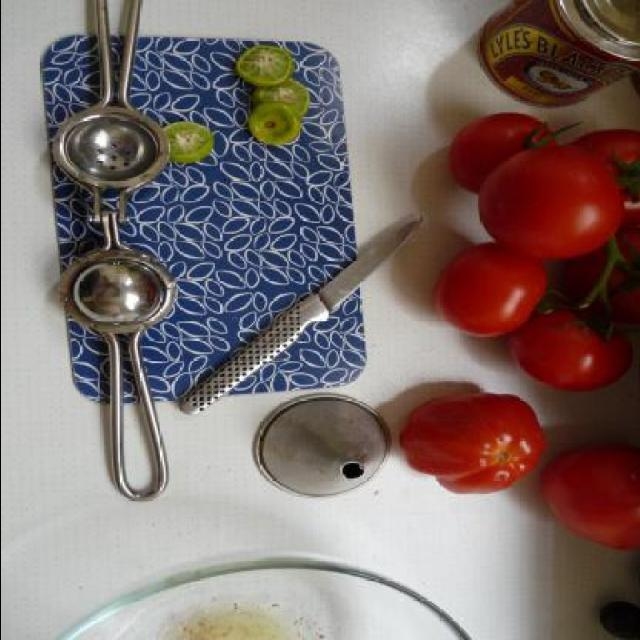Tomato: (473, 130, 638, 262), (505, 264, 633, 390), (400, 392, 546, 496), (430, 240, 572, 336), (445, 111, 581, 195), (545, 444, 640, 553), (566, 123, 640, 220)
